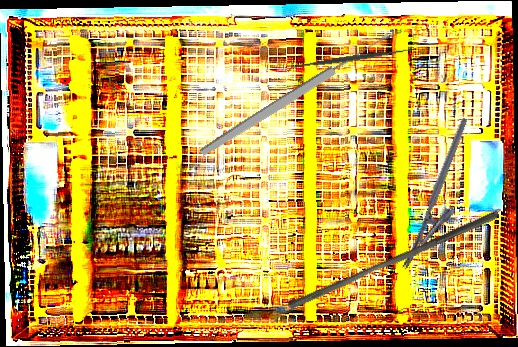Needle Holder: (400, 116, 489, 280)
Pusher: (286, 201, 501, 318)
Spatula Surgical: (286, 43, 413, 75)
Surgical Spoon: (198, 30, 393, 159)
